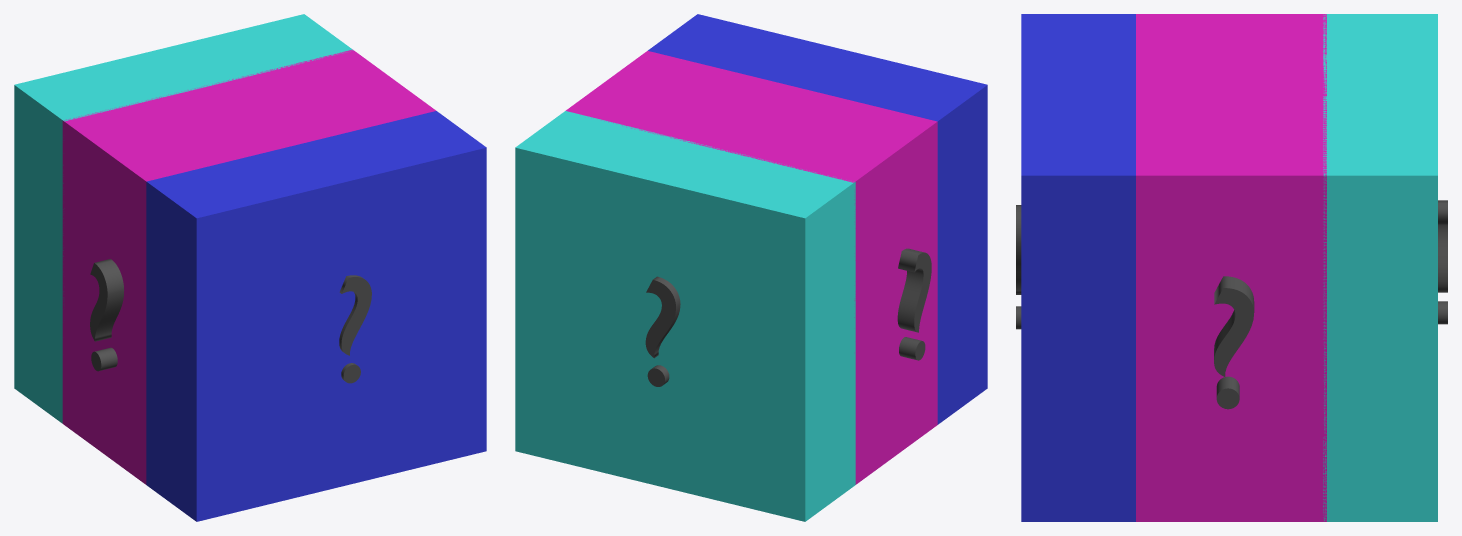
Rendered from trancendant.glb.
3 renders of one model, left to right at view 1: azimuth 30°, elevation 25°; view 2: azimuth 150°, elevation 25°; view 3: azimuth 270°, elevation 25°, orthographic. The views are drawn at different scales.
Parts seen in each view (by area): view 1: Cube.003, Cube.001, Cube.002, Text.002, Text.007, Text.006, Text.003; view 2: Cube.002, Cube.001, Cube.003, Text.002, Text.001, Text.005; view 3: Cube.001, Cube.003, Cube.002, Text, Text.001, Text.004.
Boxes of the visible parts, <box> form: Cube.003: <box>146,111,486,521</box>; Cube.001: <box>62,49,436,484</box>; Cube.002: <box>14,14,353,423</box>; Text.002: <box>90,259,124,371</box>; Text.007: <box>339,275,371,382</box>; Text.006: <box>95,259,123,369</box>; Text.003: <box>339,275,370,383</box>; Cube.002: <box>515,111,855,521</box>; Cube.001: <box>565,51,937,484</box>; Cube.003: <box>648,14,987,424</box>; Text.002: <box>897,248,931,360</box>; Text.001: <box>645,277,675,386</box>; Text.005: <box>646,276,680,386</box>; Cube.001: <box>1136,14,1326,521</box>; Cube.003: <box>1021,14,1135,521</box>; Cube.002: <box>1323,14,1437,521</box>; Text: <box>1214,276,1254,409</box>; Text.001: <box>1438,204,1447,324</box>; Text.004: <box>1214,280,1249,407</box>.
Size of the model in its own units: 2.26 by 2 by 2.26.
